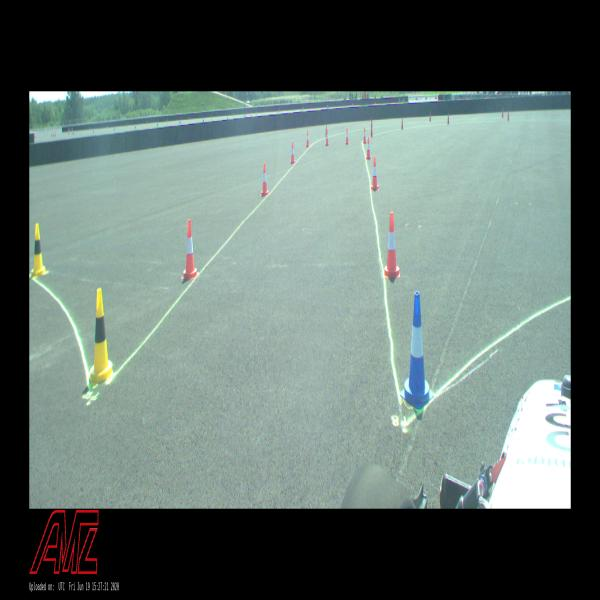blue_cone: (400, 291, 434, 409)
orange_cone: (384, 212, 400, 278), (182, 220, 198, 280), (260, 163, 270, 198), (371, 157, 379, 191), (290, 142, 296, 164), (366, 137, 371, 159), (345, 128, 349, 145), (306, 130, 309, 148), (363, 127, 366, 144), (326, 129, 329, 146)
yellow_cone: (90, 288, 113, 389), (30, 224, 49, 278)
